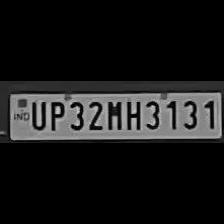1: (200, 96, 218, 130), (162, 97, 178, 130)
2: (84, 97, 104, 131)
3: (64, 97, 84, 131), (142, 97, 162, 131), (179, 96, 199, 130)
H: (122, 97, 142, 131)
M: (104, 97, 122, 130)
P: (46, 98, 64, 132)
U: (27, 98, 45, 130)
